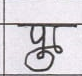u_matra: (22, 50, 58, 73)
